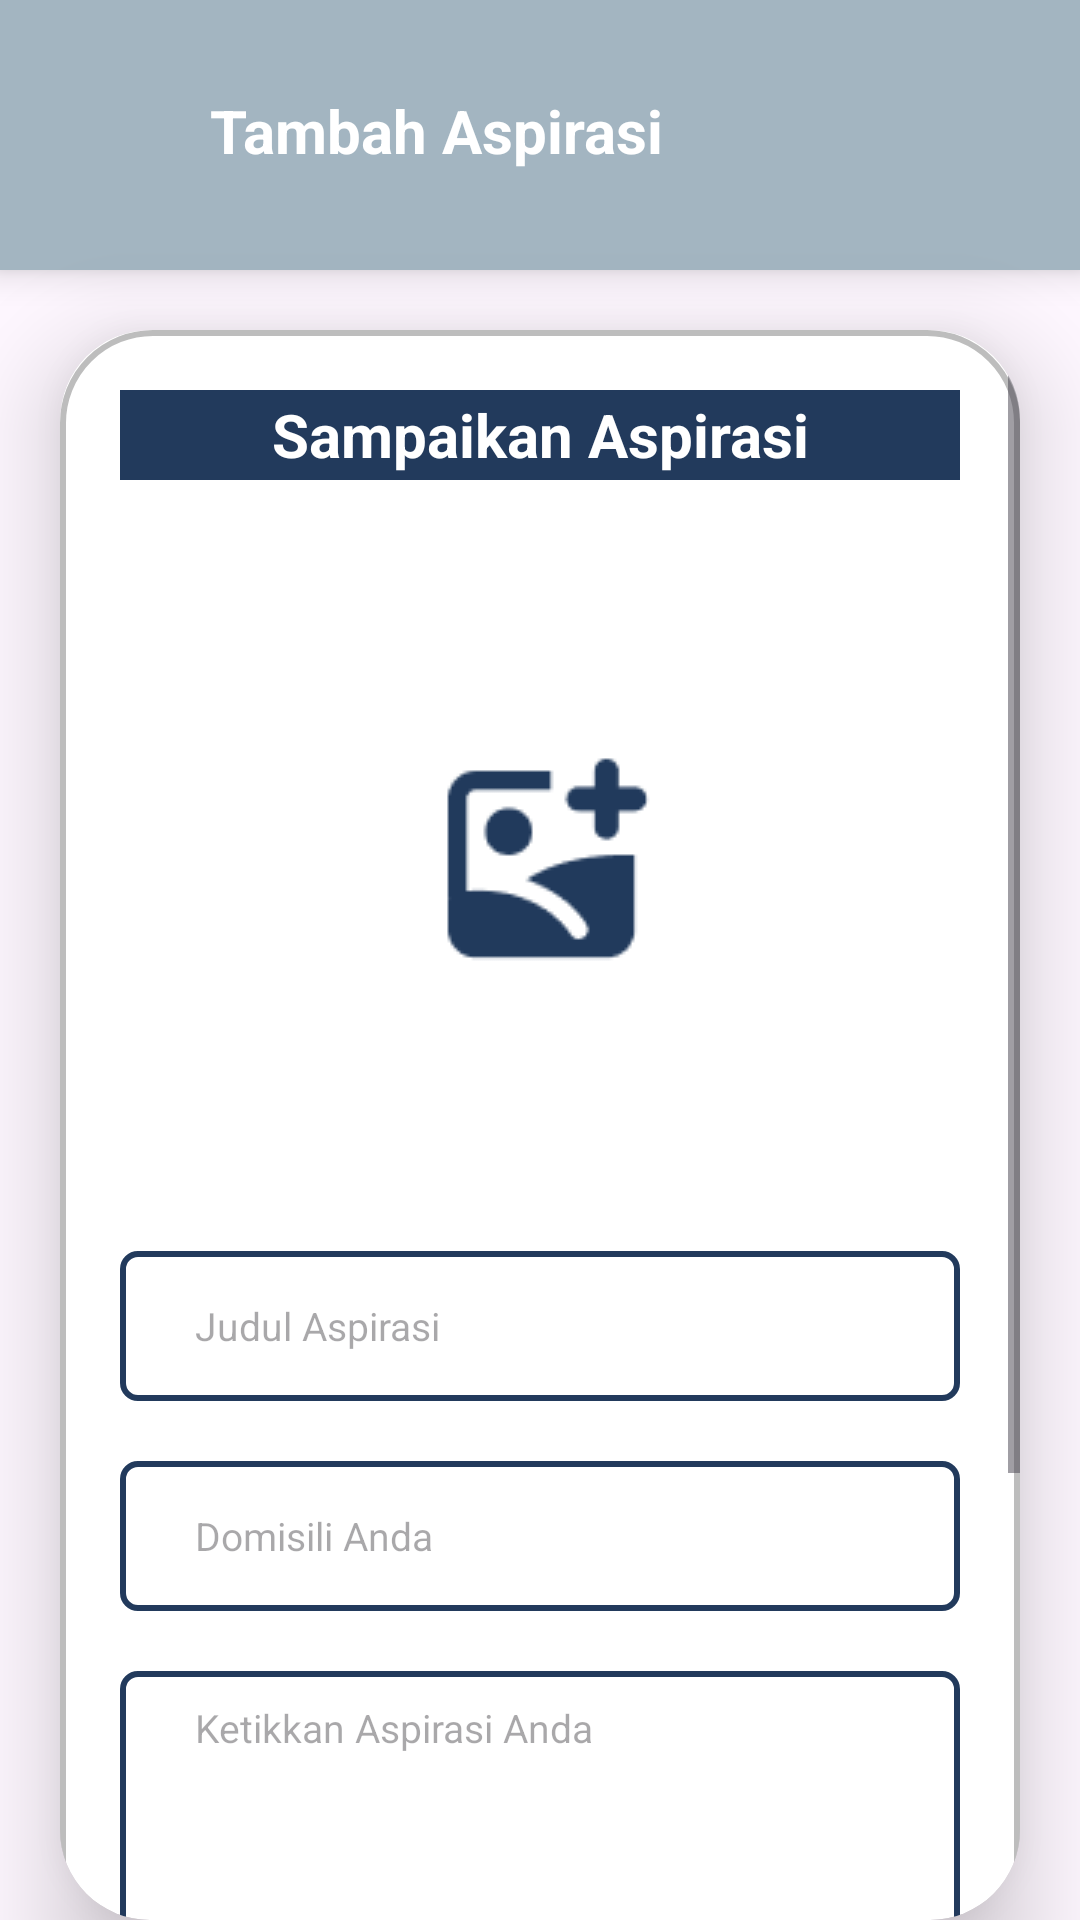

Point at icon controls on the screen. Image size 1080w x 1920h, points as [x,y].
addgambar: [547,858]
